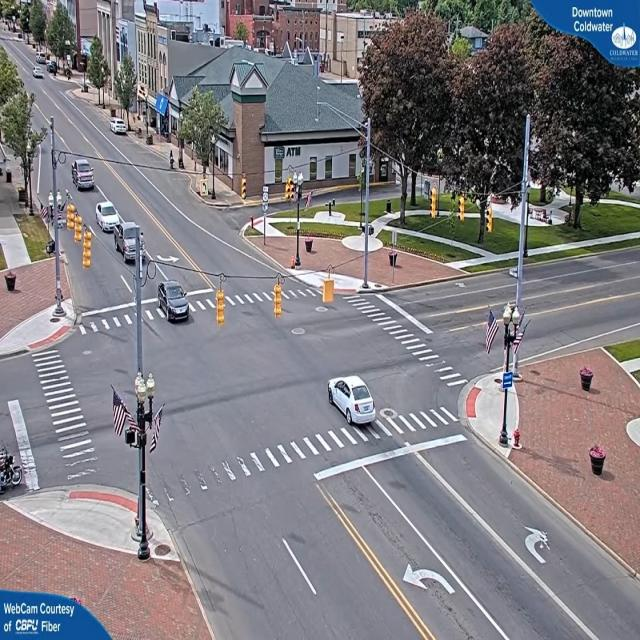car: (327, 374, 378, 426), (155, 282, 191, 322), (116, 222, 144, 262), (69, 156, 94, 192), (96, 203, 120, 233), (111, 119, 129, 136), (32, 68, 44, 79)
